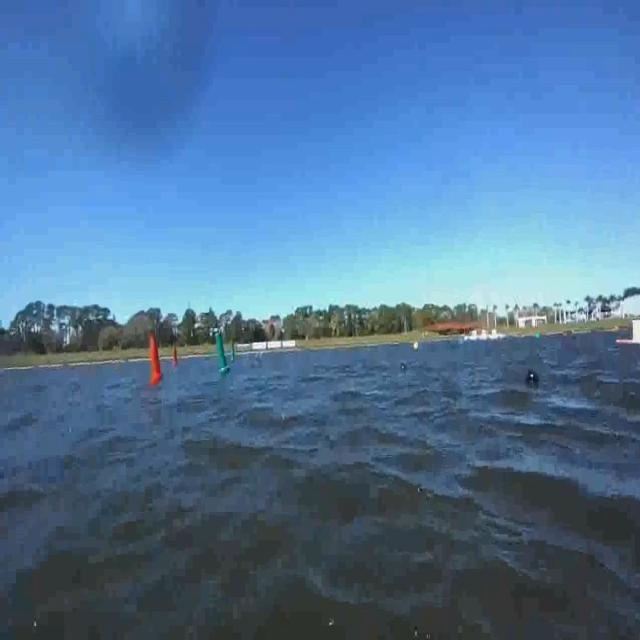black-buoy: (528, 375, 539, 391), (401, 363, 409, 371)
green-column-buoy: (214, 333, 230, 374)
red-column-buoy: (148, 334, 163, 384), (172, 345, 180, 367)
yellow-buoy: (412, 340, 420, 354)
